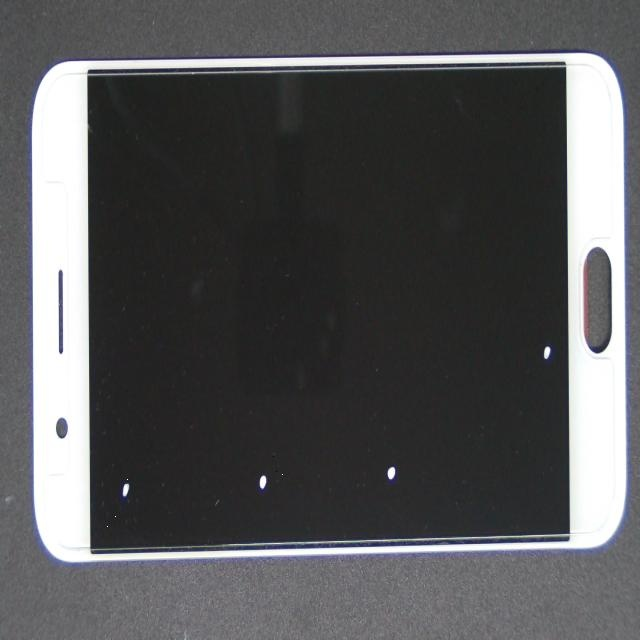stain: (183, 218, 555, 640), (266, 169, 640, 558), (80, 242, 369, 640), (54, 203, 161, 640)
